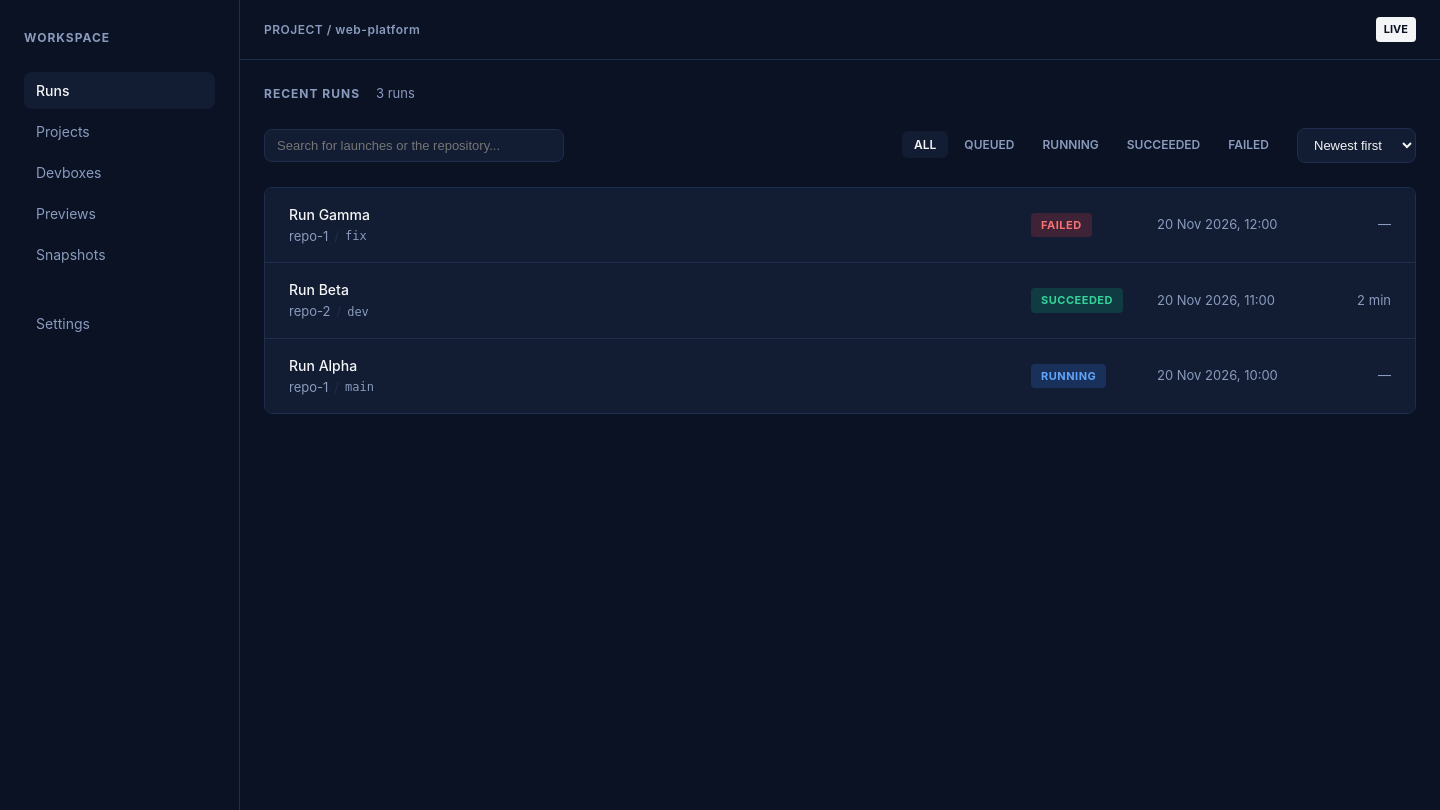
App Integration Tests › 3. should open details drawer for a succeeded run
Expected: the heading "Run Beta" is shown, [289, 281, 349, 298]
What coordinates should you click on to do the following:
click the button with aria-label "Open launch details Run Beta"
I would click on:
 (319, 290)
Its box is [265, 263, 1415, 338].
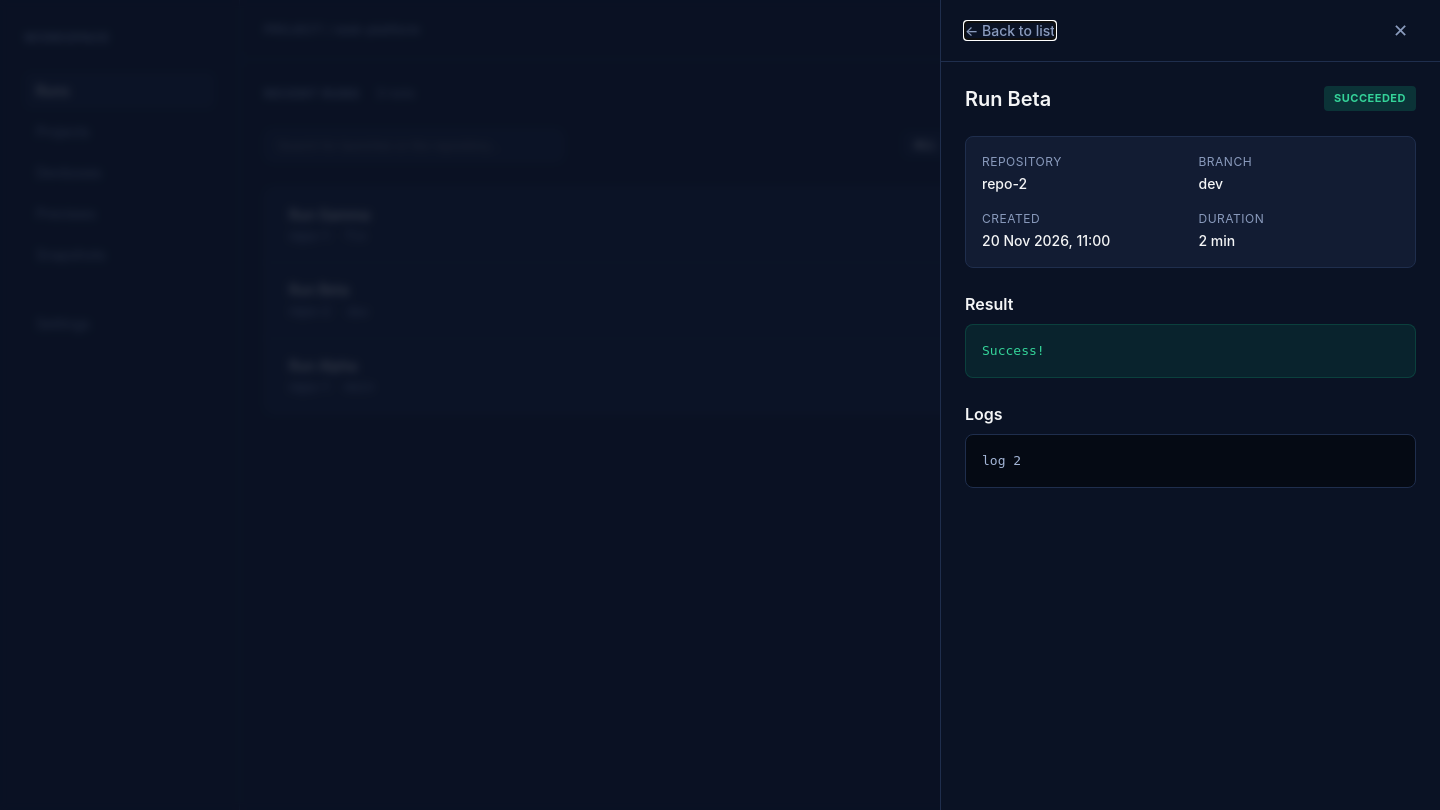
Expected: the dialog is shown, [940, 0, 1439, 809]
Expected: the text "Success!" is shown, [965, 324, 1416, 378]
Expected: the text "log 2" is shown, [982, 452, 1021, 468]
